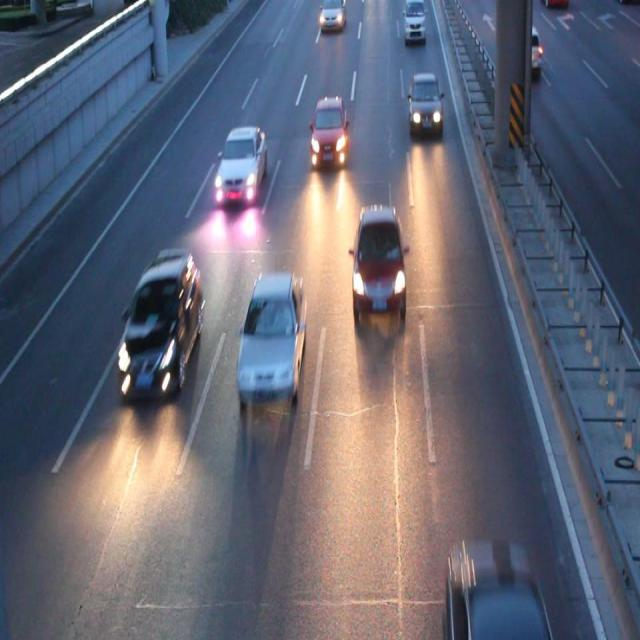car: (117, 249, 202, 396), (446, 545, 548, 640), (238, 271, 304, 396), (351, 207, 405, 312), (218, 126, 265, 200), (310, 99, 346, 163), (408, 73, 441, 134), (505, 27, 540, 78), (318, 1, 345, 27), (540, 1, 566, 11)
truck: (402, 1, 424, 43)
